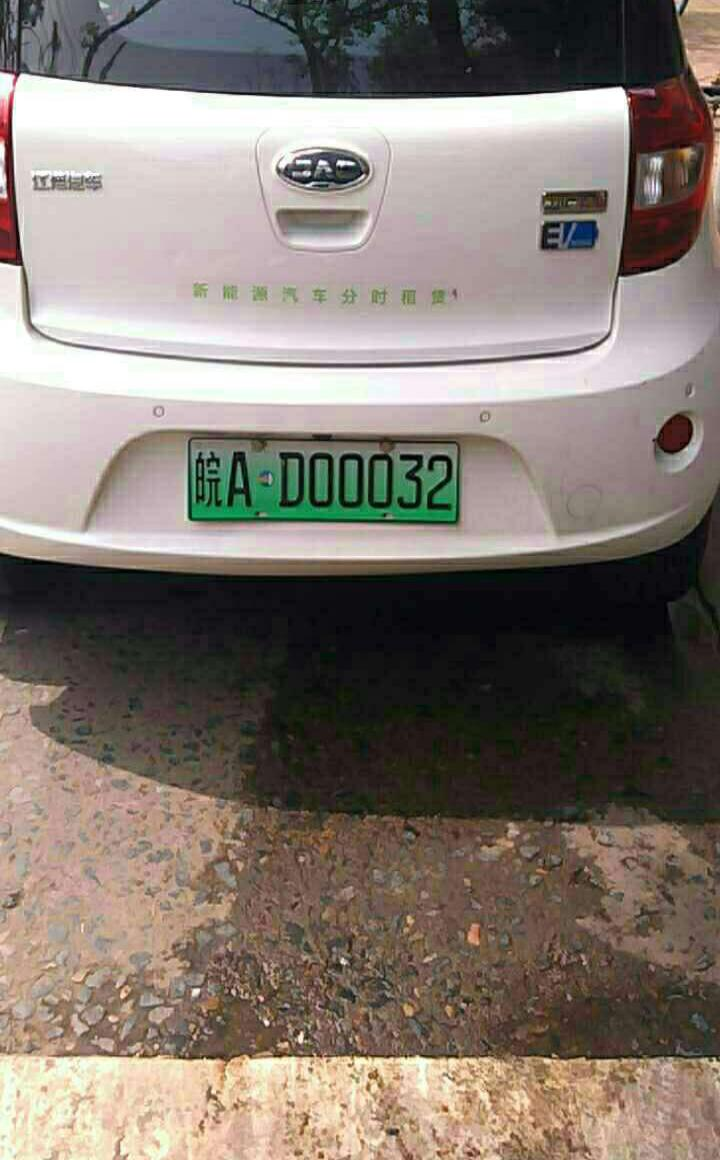car: (170, 434, 468, 539)
